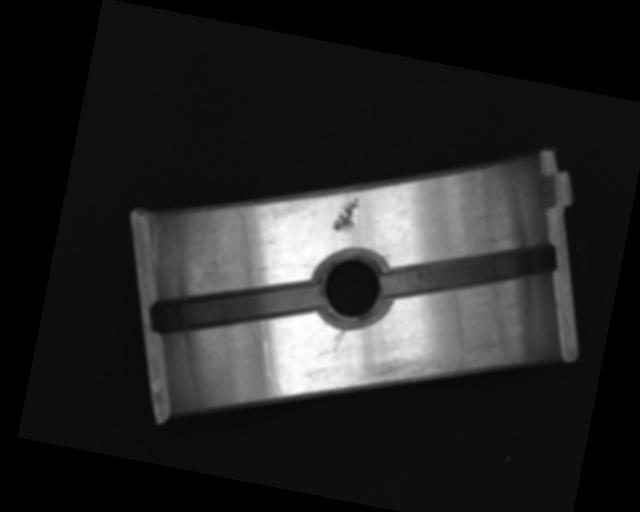bruise: (331, 193, 361, 235)
gap: (382, 215, 557, 326), (148, 256, 322, 362)
hole: (306, 246, 395, 336)
nick: (252, 338, 292, 399), (330, 326, 346, 354)
scratch: (362, 328, 511, 410)
